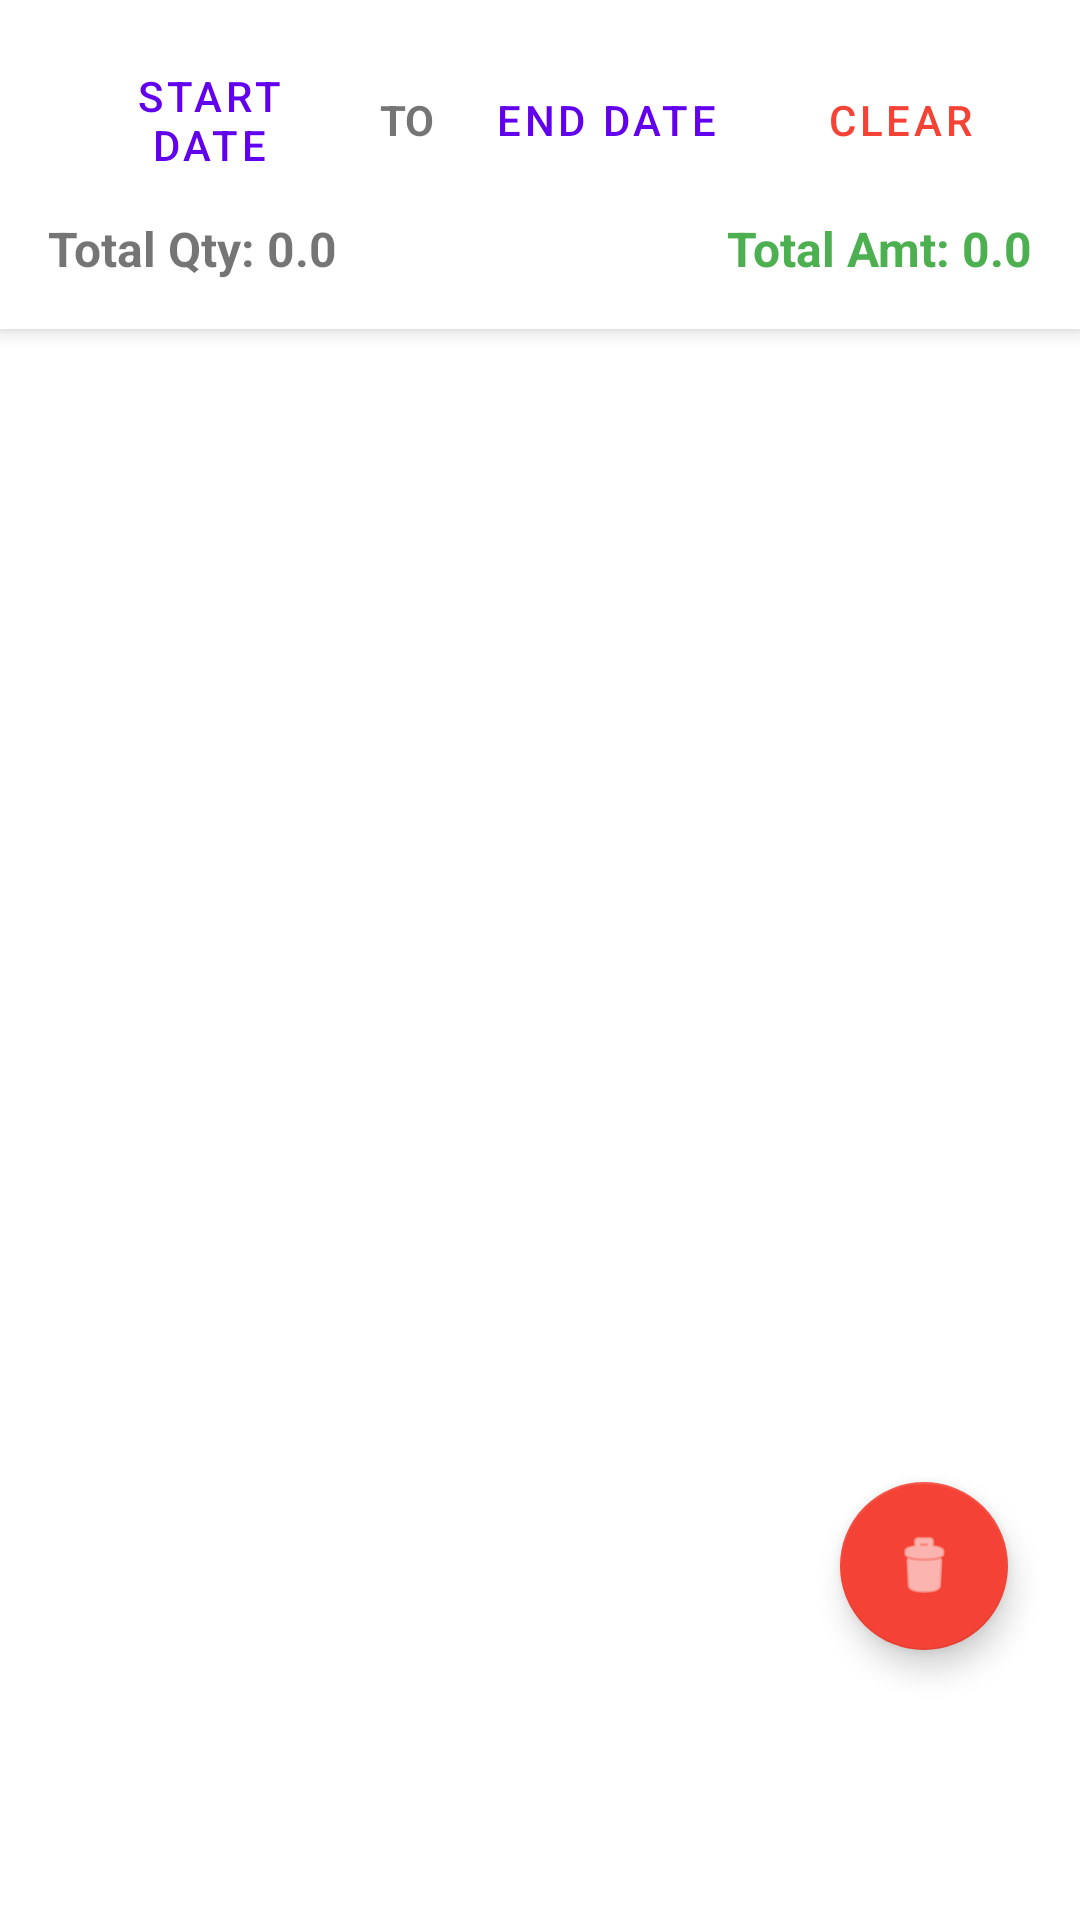

Screen size 1080w x 1920h. Icon name, then its center in pixels as [x,y]:
Delete All: [924,1566]
